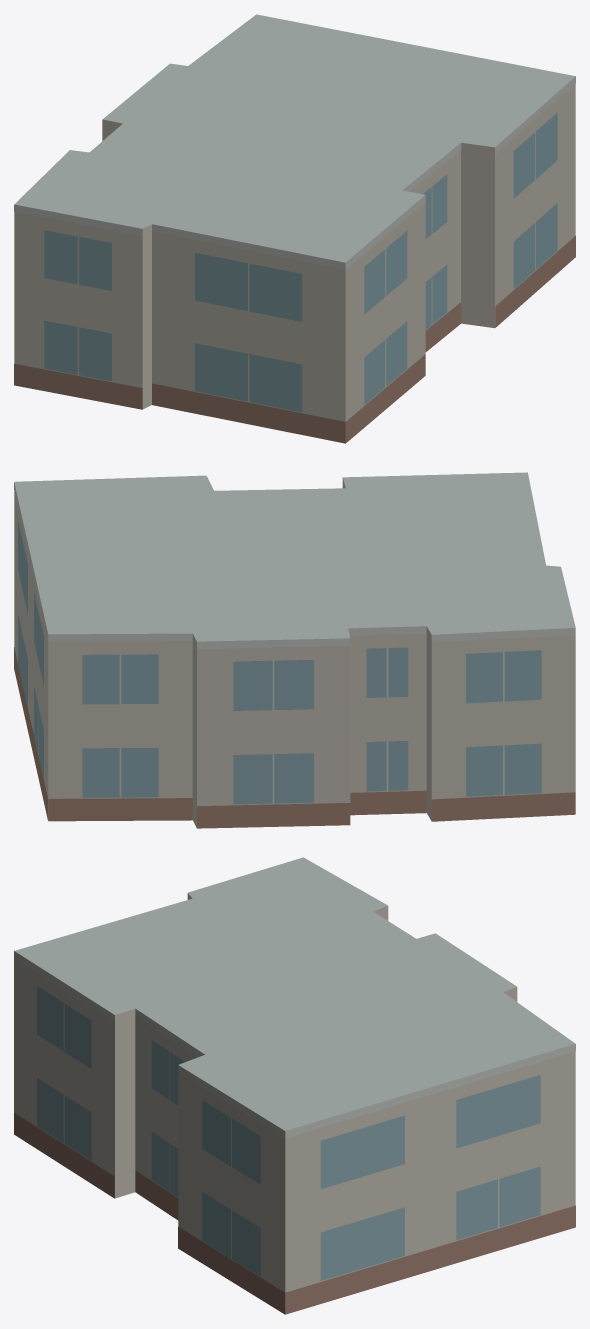
Rendered from survey-upis-32680746.glb.
The picture shows the model from 3 angles, top to bottom: view 1: azimuth 30°, elevation 25°; view 2: azimuth 150°, elevation 25°; view 3: azimuth 270°, elevation 25°; orthographic projection. The views are drawn at different scales.
Parts seen in each view (by area): view 1: survey-upis-32680746.tmp; view 2: survey-upis-32680746.tmp; view 3: survey-upis-32680746.tmp.
Part boxes in pixels (x1,y1,x2,y2): survey-upis-32680746.tmp: [14, 14, 575, 443]; survey-upis-32680746.tmp: [14, 472, 575, 828]; survey-upis-32680746.tmp: [14, 857, 575, 1314].
Size of the model in its own units: 19.52 by 6.1 by 16.92.
